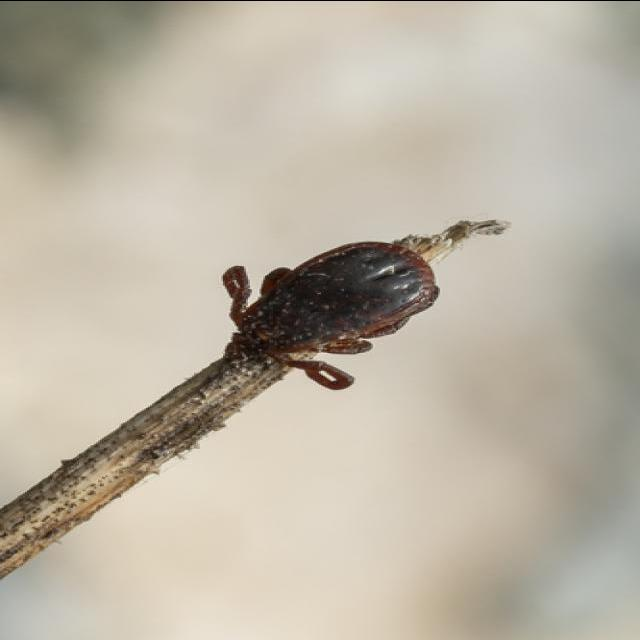Rhipicephalus Sanguineus-M: (221, 234, 438, 389)
